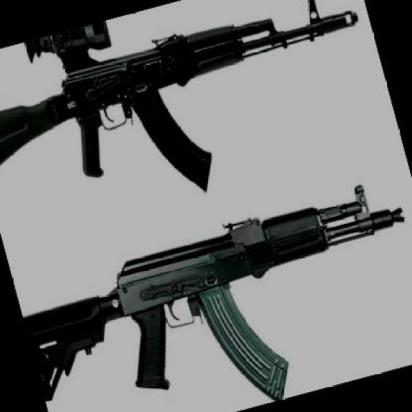Gun: (9, 163, 412, 412), (0, 0, 395, 250)
